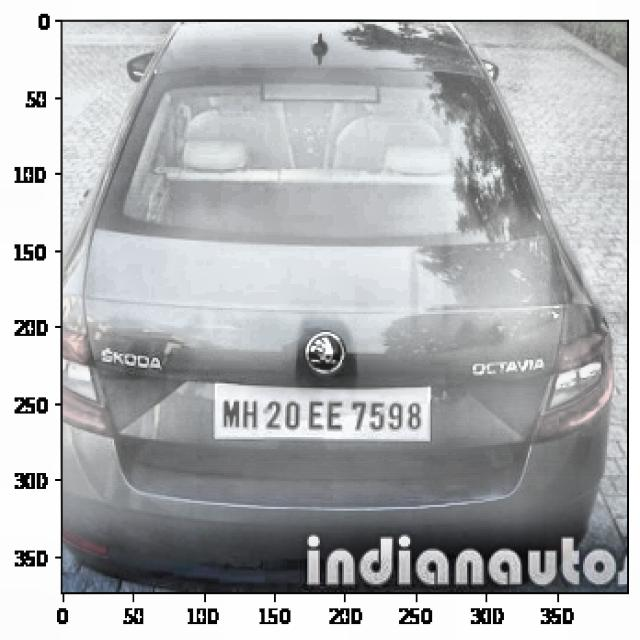license_plate: (214, 387, 427, 439)
